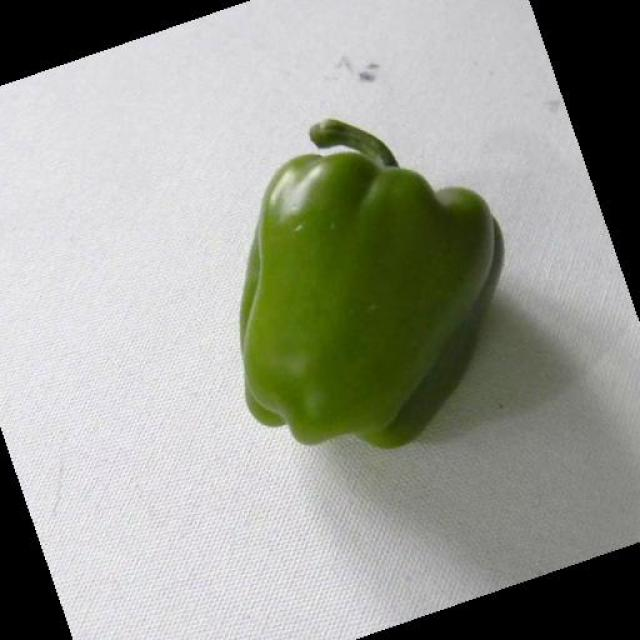Fresh_Capsicum: (217, 95, 509, 467)
